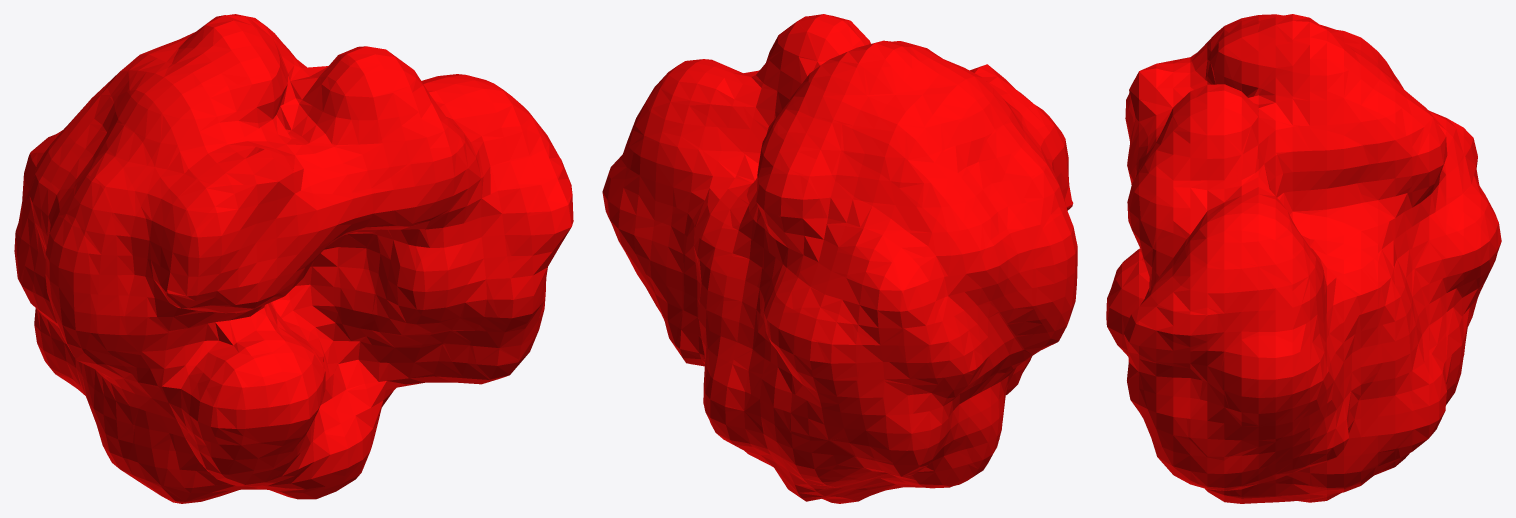
File: yggW_coarse.dae
3 renders of one model, left to right at view 1: azimuth 30°, elevation 25°; view 2: azimuth 150°, elevation 25°; view 3: azimuth 270°, elevation 25°, orthographic. The views are drawn at different scales.
Visible parts, largest first — view 1: yggW; view 2: yggW; view 3: yggW.
Part boxes in pixels (x1=…): yggW: x1=14, y1=14, x2=573, y2=503; yggW: x1=602, y1=14, x2=1077, y2=503; yggW: x1=1106, y1=14, x2=1501, y2=503.
Bounding box in the file's own units: 67.07 × 63.02 × 48.68.
